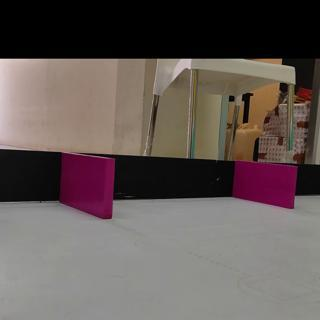xparking: (63, 159, 113, 219), (238, 167, 294, 203)
